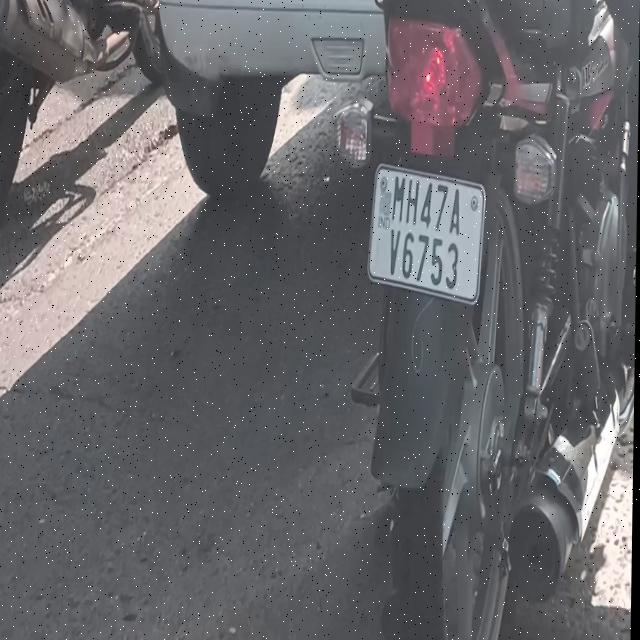plate: (362, 155, 491, 314)
